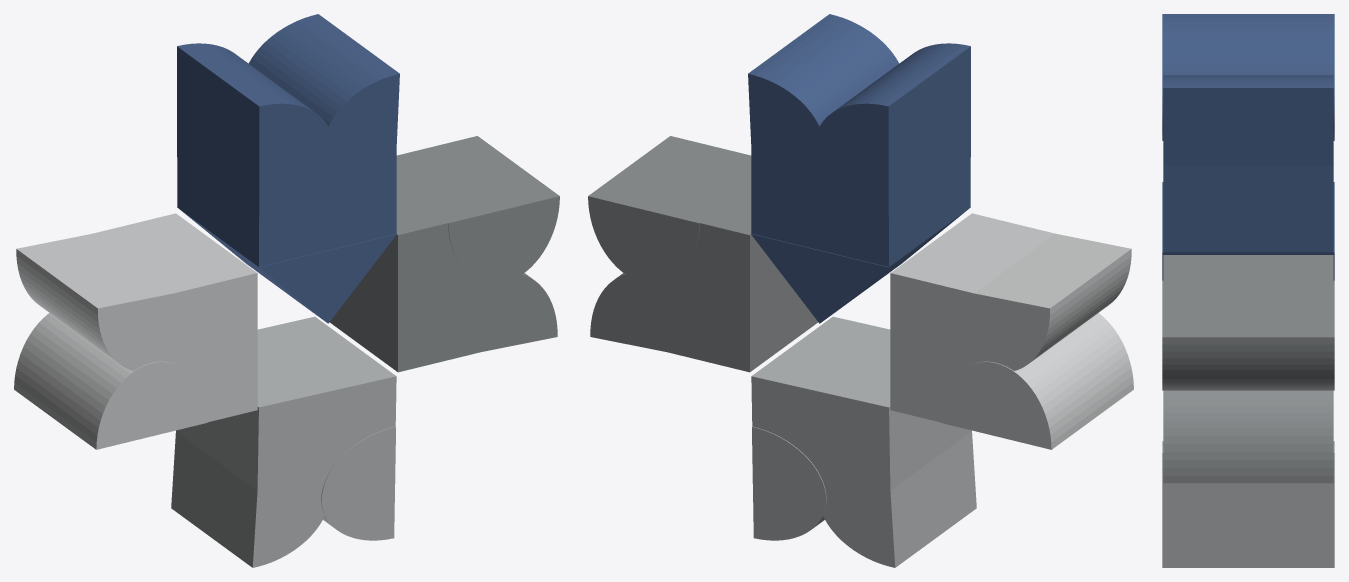
Rendered from asset.glb.
3 renders of one model, left to right at view 1: azimuth 30°, elevation 25°; view 2: azimuth 150°, elevation 25°; view 3: azimuth 270°, elevation 25°, orthographic. The views are drawn at different scales.
Visible parts, largest first — view 1: Mesh_Mesh_head_geo.001_lambert2SG.001; view 2: Mesh_Mesh_head_geo.001_lambert2SG.001; view 3: Mesh_Mesh_head_geo.001_lambert2SG.001.
Boxes of the visible parts, box(x1,y1,x2,y2) form: Mesh_Mesh_head_geo.001_lambert2SG.001: box(14, 14, 559, 567); Mesh_Mesh_head_geo.001_lambert2SG.001: box(588, 14, 1133, 567); Mesh_Mesh_head_geo.001_lambert2SG.001: box(1162, 14, 1334, 567).
Bounding box in the file's own units: 74.13 × 71 × 22.82.
